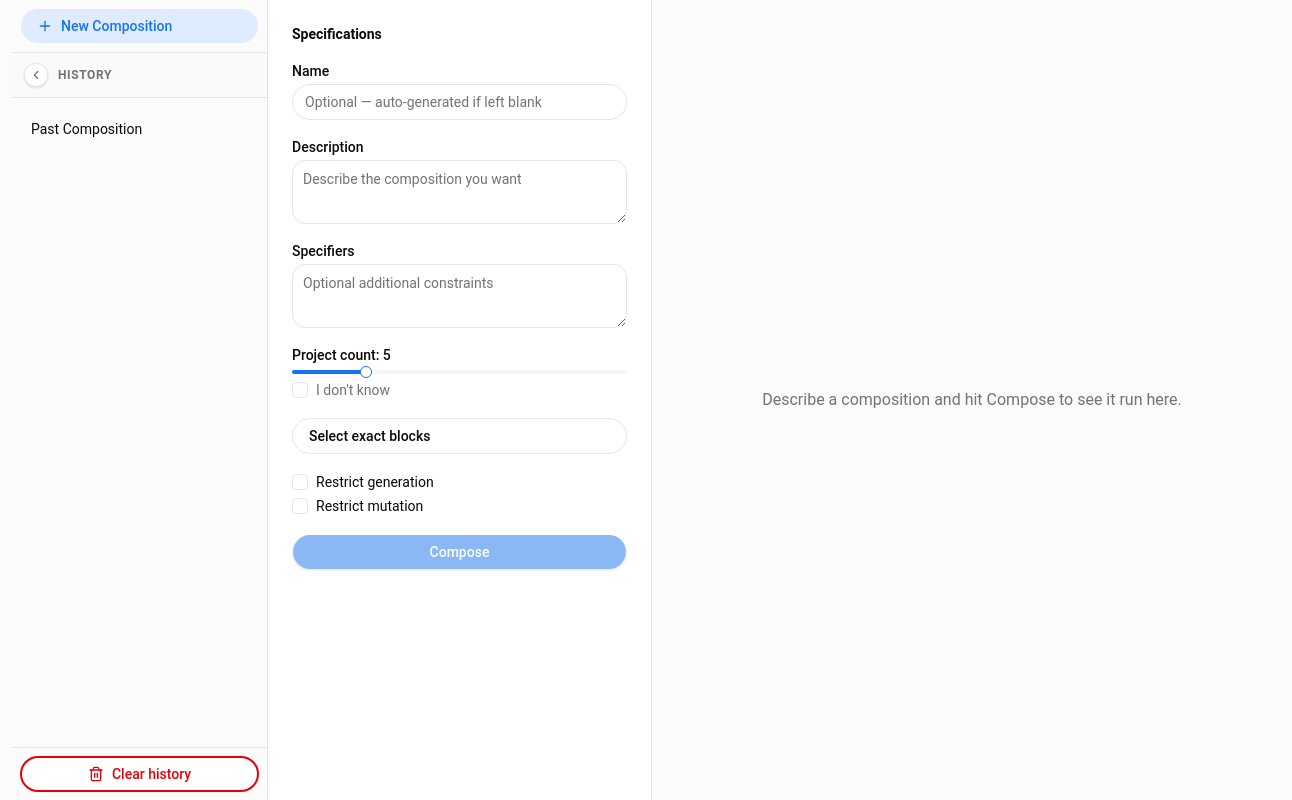
'New Composition' returns from a history view to a fresh, editable Specifications state
Click the button "Past Composition": [108, 129] box [31,119,186,139]
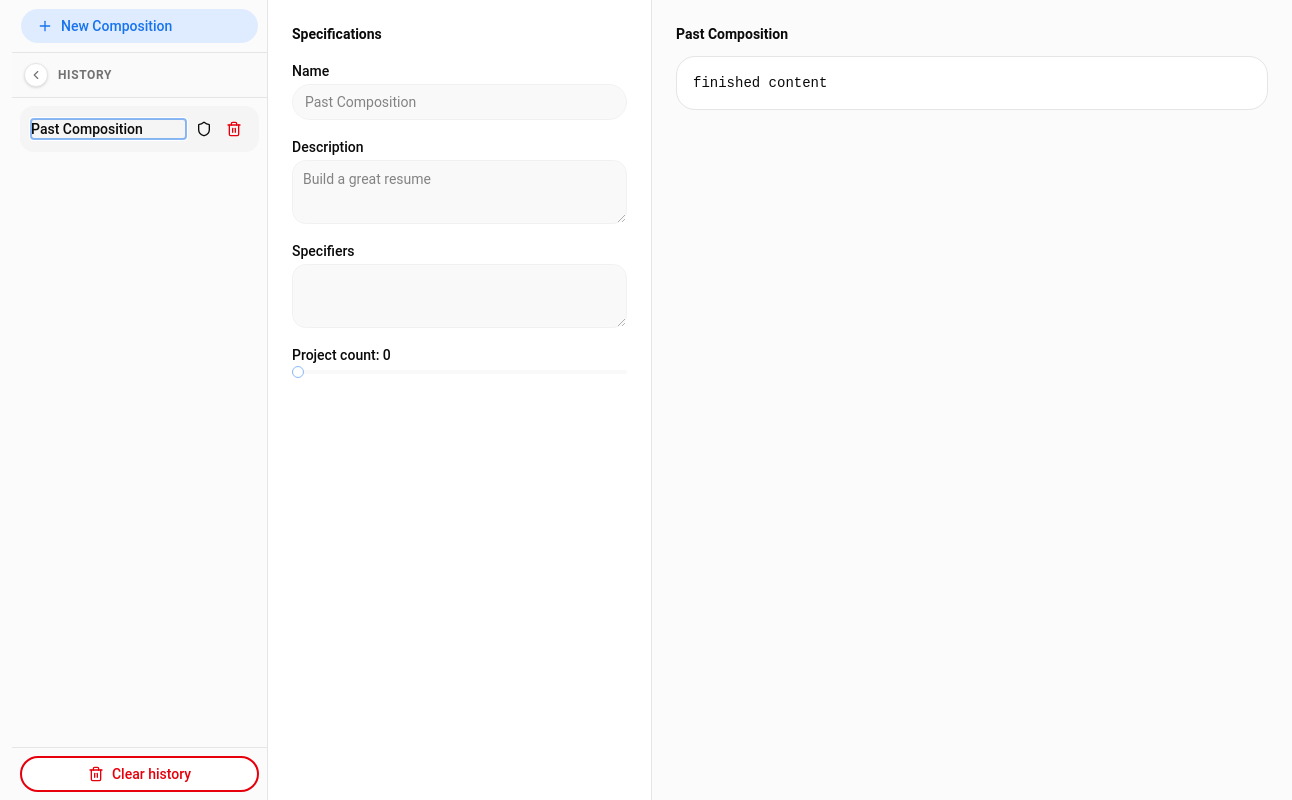
Click the button "New Composition": [140, 26] box [20,8,259,44]
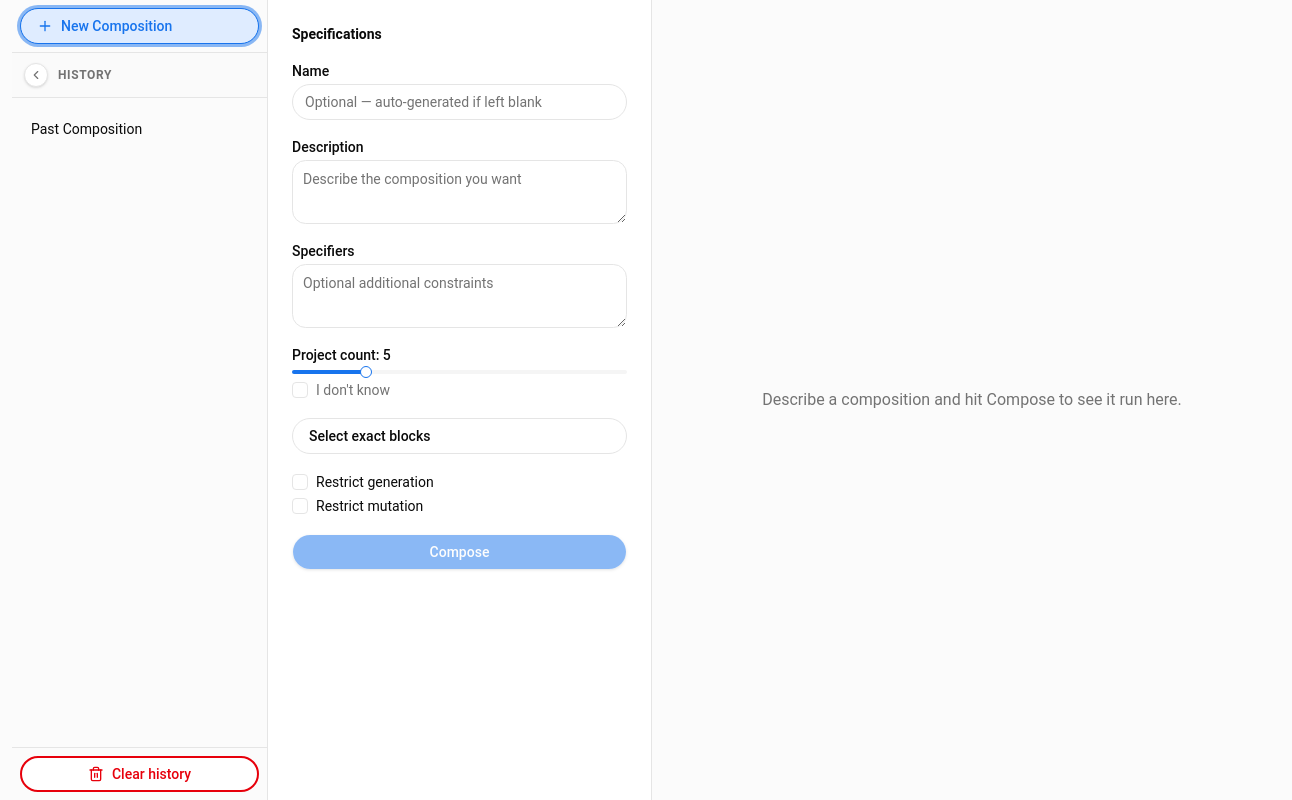
expect the button "Compose" is disabled: met, box [292,534,627,570]
expect the text box labelled "Description" is enabled: met, box [292,160,627,224]
expect the text box labelled "Description" is empty: met, box [292,160,627,224]
